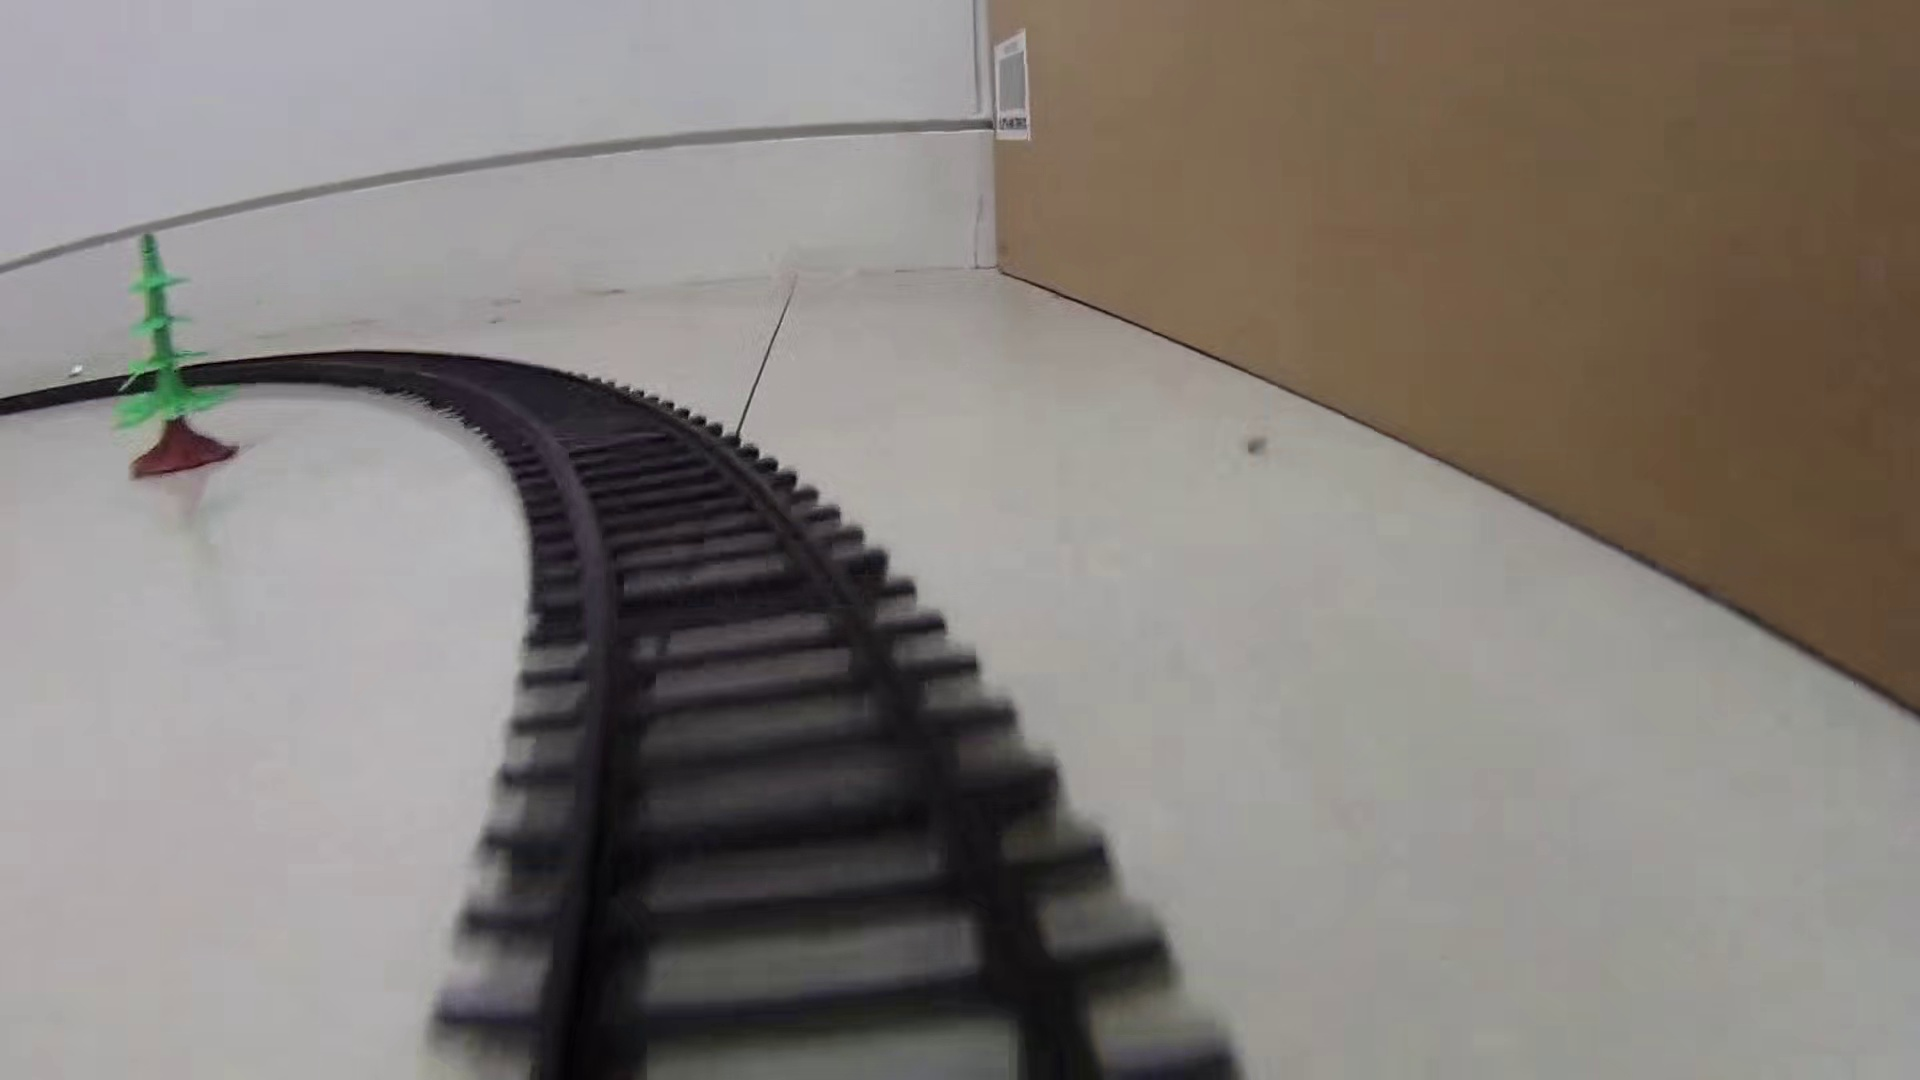tree: (114, 231, 242, 477)
